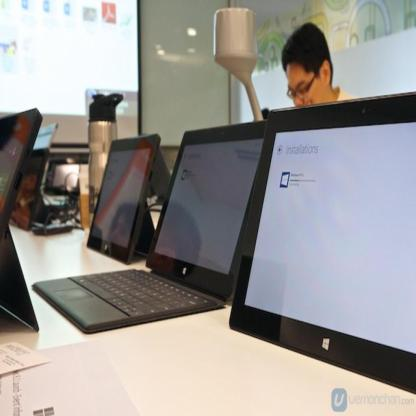board: (32, 121, 271, 334)
